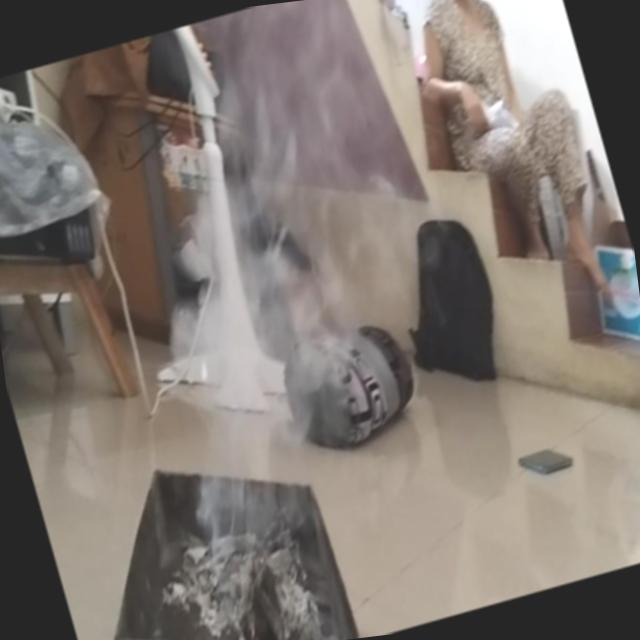smoke: (154, 39, 418, 334), (139, 351, 354, 640)
